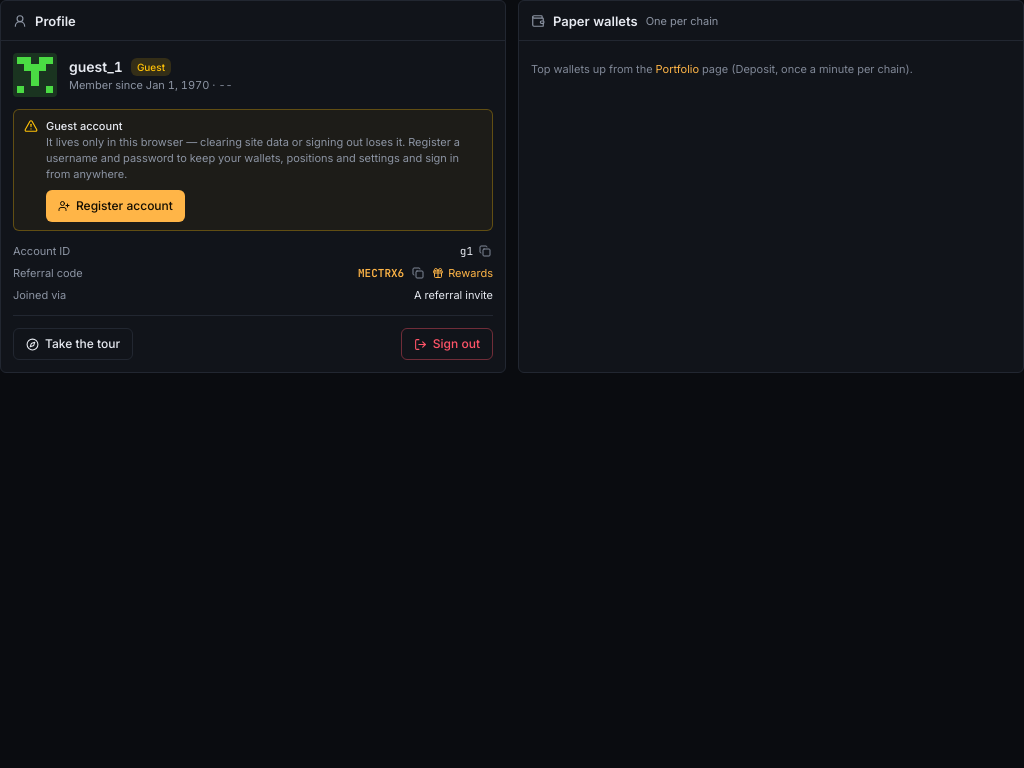
Scenario: Settings → Account › signs out through the shared flow ("Sign out", guest confirmation with Register instead) and never prints the referrer id
Expected: the text "A referral invite" is shown, [414,287,493,303]
Click the button "Sign out".
click(447, 344)  # box [401,328,493,360]
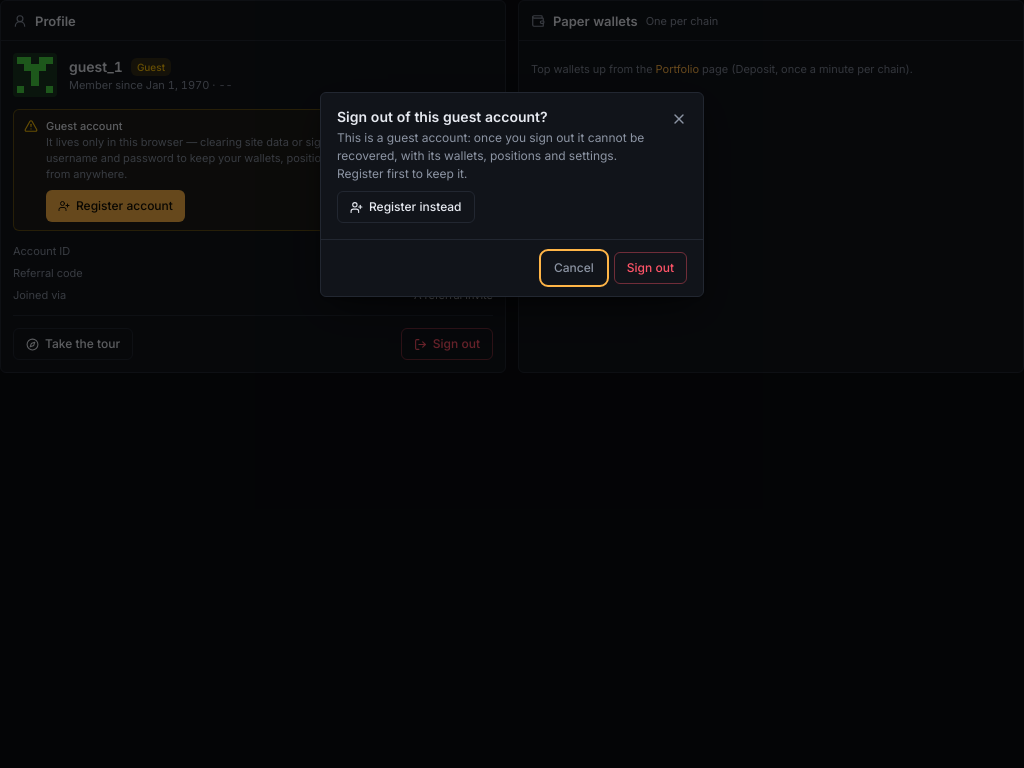
Now the dialog "Sign out of this guest account?" shows "Register instead", box [337,191,474,223]
